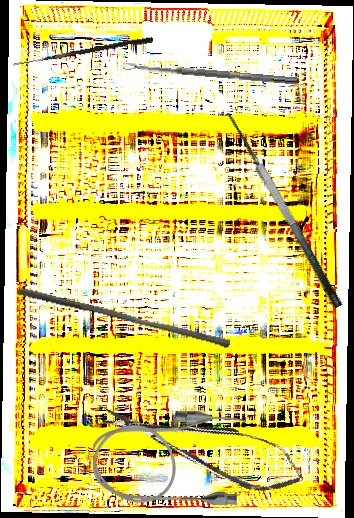Cannula: (93, 411, 246, 505)
Hook Surgical: (12, 34, 154, 72)
Micro Scissor: (97, 385, 309, 505)
Pusher: (15, 286, 233, 349)
Spatula Surgical: (212, 106, 345, 319)
Surgical Spoon: (122, 61, 300, 85)
